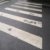zebra: (1, 1, 42, 50)
